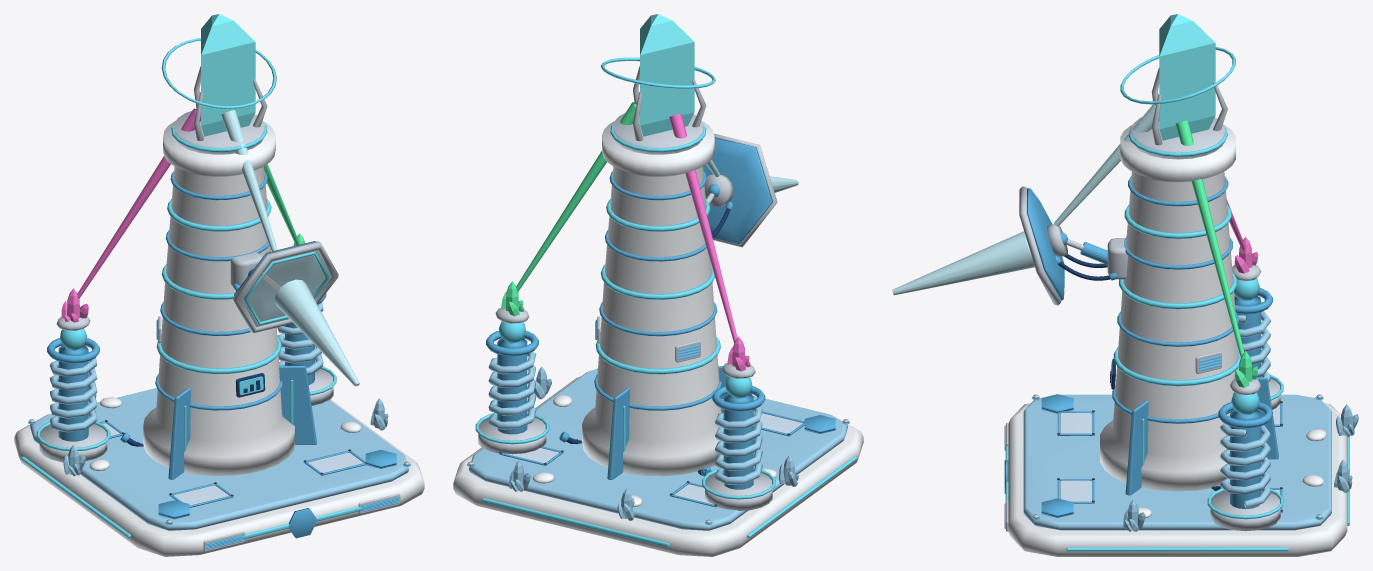
The model's file is SunMirrorTower_T3.fbx.
3 views of the same model, side by side, from view 1: azimuth 30°, elevation 25°; view 2: azimuth 150°, elevation 25°; view 3: azimuth 270°, elevation 25° (orthographic). The views are drawn at different scales.
Visible parts, largest first — view 1: SunMirrorTowerT3Column, SunMirrorTowerT3Deck, SunMirrorTowerT3Pods, SunMirrorTowerT3PrismGlow, SunMirrorTowerT3Mirror, SunMirrorTowerT3RaysGlow, SunMirrorTowerT3BeamGlow, SunMirrorTowerT3Prism, SunMirrorTowerT3ColumnGlowGlow, SunMirrorTowerT3PodsGlow, SunMirrorTowerT3DeckGlow, SunMirrorTowerT3DeckCrystalsGlow (+4 smaller); view 2: SunMirrorTowerT3Column, SunMirrorTowerT3Deck, SunMirrorTowerT3Pods, SunMirrorTowerT3PrismGlow, SunMirrorTowerT3Mirror, SunMirrorTowerT3RaysGlow, SunMirrorTowerT3PodsGlow, SunMirrorTowerT3ColumnGlowGlow, SunMirrorTowerT3Prism, SunMirrorTowerT3DeckCrystalsGlow, SunMirrorTowerT3DeckGlow, SunMirrorTowerT3DeckCrystals; view 3: SunMirrorTowerT3Column, SunMirrorTowerT3Deck, SunMirrorTowerT3Pods, SunMirrorTowerT3PrismGlow, SunMirrorTowerT3RaysGlow, SunMirrorTowerT3BeamGlow, SunMirrorTowerT3Mirror, SunMirrorTowerT3PodsGlow, SunMirrorTowerT3ColumnGlowGlow, SunMirrorTowerT3Prism, SunMirrorTowerT3Arm, SunMirrorTowerT3DeckGlow (+1 smaller).
Boxes of the visible parts, x1=… form: SunMirrorTowerT3Column: x1=143, y1=120, x2=316, y2=479; SunMirrorTowerT3Deck: x1=14, y1=388, x2=424, y2=556; SunMirrorTowerT3Pods: x1=39, y1=293, x2=333, y2=462; SunMirrorTowerT3PrismGlow: x1=161, y1=14, x2=276, y2=152; SunMirrorTowerT3Mirror: x1=233, y1=241, x2=338, y2=332; SunMirrorTowerT3RaysGlow: x1=77, y1=108, x2=299, y2=299; SunMirrorTowerT3BeamGlow: x1=274, y1=279, x2=359, y2=386; SunMirrorTowerT3Prism: x1=174, y1=66, x2=267, y2=154; SunMirrorTowerT3ColumnGlowGlow: x1=156, y1=199, x2=281, y2=374; SunMirrorTowerT3PodsGlow: x1=36, y1=233, x2=336, y2=450; SunMirrorTowerT3DeckGlow: x1=21, y1=456, x2=394, y2=546; SunMirrorTowerT3DeckCrystalsGlow: x1=63, y1=372, x2=388, y2=476; SunMirrorTowerT3Column: x1=582, y1=121, x2=754, y2=479; SunMirrorTowerT3Deck: x1=453, y1=368, x2=863, y2=556; SunMirrorTowerT3Pods: x1=478, y1=308, x2=772, y2=510; SunMirrorTowerT3PrismGlow: x1=601, y1=14, x2=715, y2=152; SunMirrorTowerT3Mirror: x1=703, y1=133, x2=777, y2=247; SunMirrorTowerT3RaysGlow: x1=516, y1=102, x2=737, y2=342; SunMirrorTowerT3PodsGlow: x1=475, y1=281, x2=775, y2=499; SunMirrorTowerT3ColumnGlowGlow: x1=595, y1=199, x2=720, y2=374; SunMirrorTowerT3Prism: x1=613, y1=66, x2=706, y2=154; SunMirrorTowerT3DeckCrystalsGlow: x1=509, y1=366, x2=798, y2=520; SunMirrorTowerT3DeckGlow: x1=482, y1=456, x2=856, y2=547; SunMirrorTowerT3DeckCrystals: x1=532, y1=395, x2=777, y2=507; SunMirrorTowerT3Column: x1=1100, y1=124, x2=1278, y2=495; SunMirrorTowerT3Deck: x1=1004, y1=394, x2=1347, y2=556; SunMirrorTowerT3Pods: x1=1210, y1=264, x2=1280, y2=531; SunMirrorTowerT3PrismGlow: x1=1120, y1=14, x2=1235, y2=156; SunMirrorTowerT3RaysGlow: x1=1054, y1=104, x2=1245, y2=357; SunMirrorTowerT3BeamGlow: x1=892, y1=231, x2=1034, y2=295; SunMirrorTowerT3Mirror: x1=1019, y1=186, x2=1067, y2=305; SunMirrorTowerT3PodsGlow: x1=1207, y1=237, x2=1283, y2=519; SunMirrorTowerT3ColumnGlowGlow: x1=1113, y1=204, x2=1240, y2=386; SunMirrorTowerT3Prism: x1=1131, y1=68, x2=1227, y2=159; SunMirrorTowerT3Arm: x1=1055, y1=232, x2=1127, y2=280; SunMirrorTowerT3DeckGlow: x1=1005, y1=436, x2=1349, y2=551.
Bounding box in the file's own units: 283 × 426 × 378.
